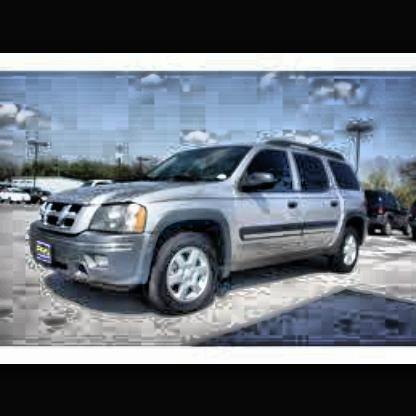Isuzu Ascender SUV 2008: (29, 144, 379, 322)
